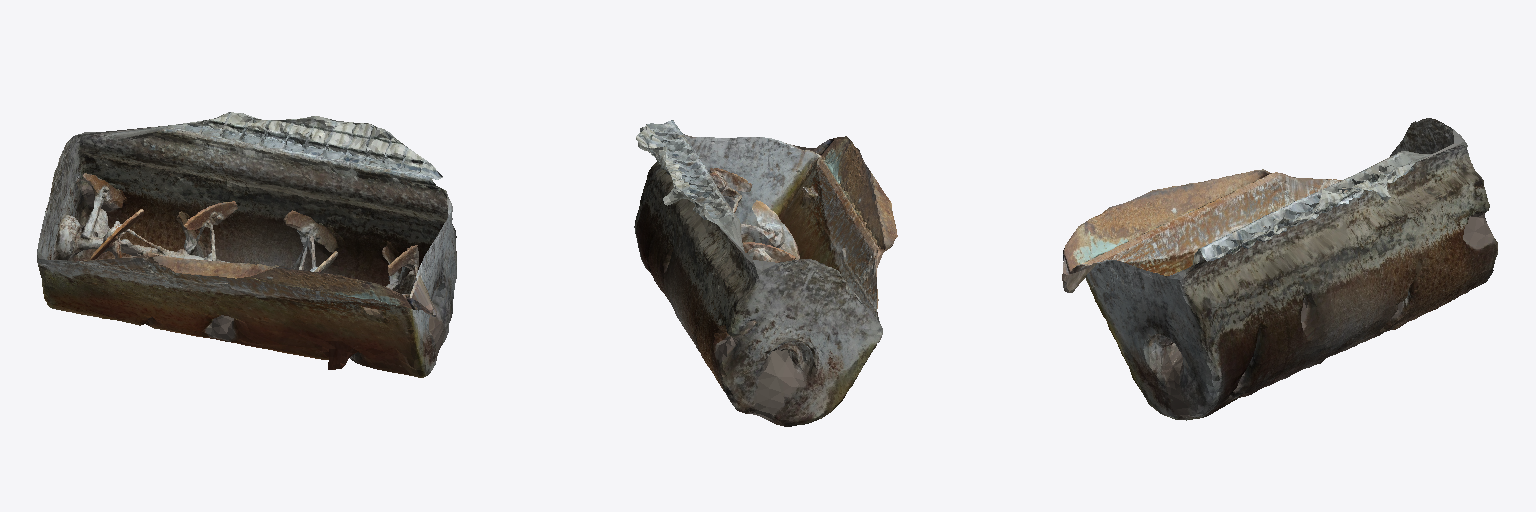
The picture shows the model from 3 angles: view 1: azimuth 30°, elevation 25°; view 2: azimuth 150°, elevation 25°; view 3: azimuth 270°, elevation 25°; orthographic projection.
Size of the model in its own units: 2.77 by 1.67 by 3.14.
1 materials, 1 textured.